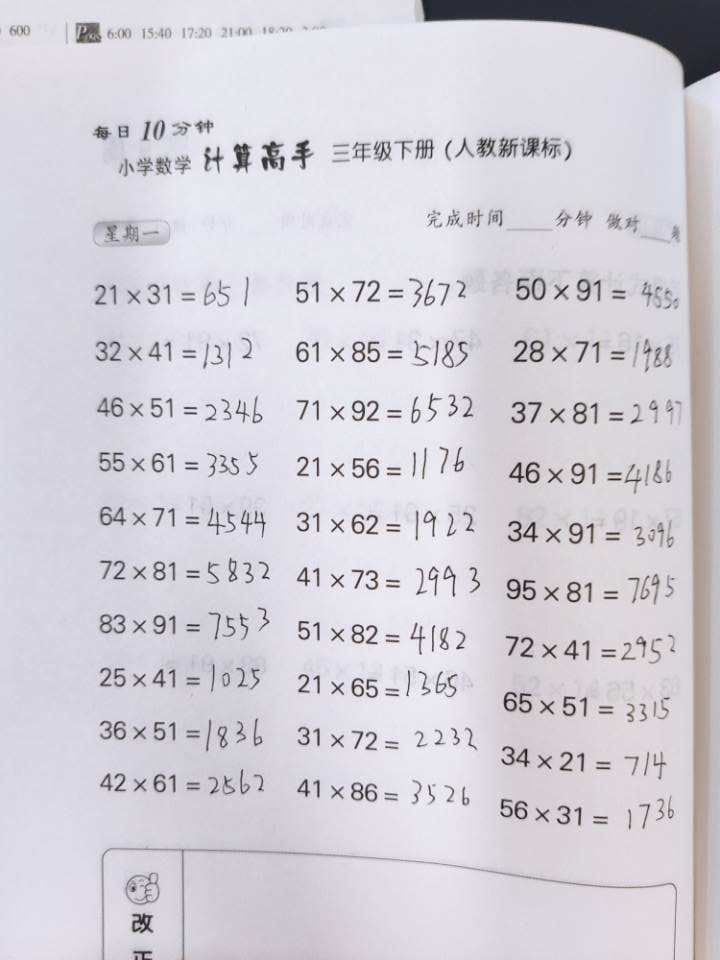equation: (583, 53, 644, 312), (330, 40, 381, 308), (284, 35, 333, 295), (464, 40, 509, 311), (284, 309, 329, 576), (579, 320, 623, 591), (419, 41, 464, 304), (411, 315, 457, 572), (565, 592, 610, 851), (490, 329, 535, 587), (553, 53, 597, 309), (326, 324, 370, 579), (245, 319, 287, 579), (320, 591, 363, 843), (442, 575, 482, 845), (287, 584, 328, 847), (197, 49, 241, 292), (487, 593, 526, 855), (200, 600, 241, 848), (526, 585, 566, 839), (239, 603, 279, 851), (514, 45, 551, 309), (408, 580, 445, 841), (200, 331, 238, 583), (245, 45, 285, 284), (458, 305, 493, 577), (369, 584, 404, 847), (541, 284, 572, 580), (373, 315, 409, 568), (386, 33, 418, 311)
